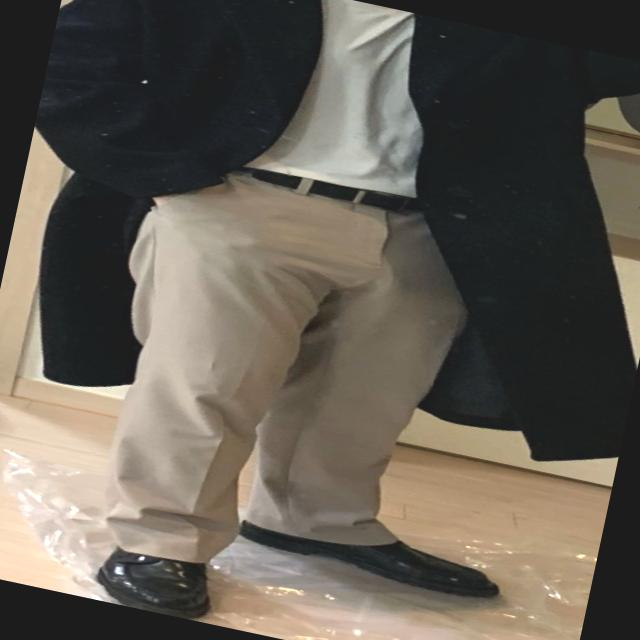coat: (0, 0, 640, 501)
slacks: (64, 139, 483, 611)
